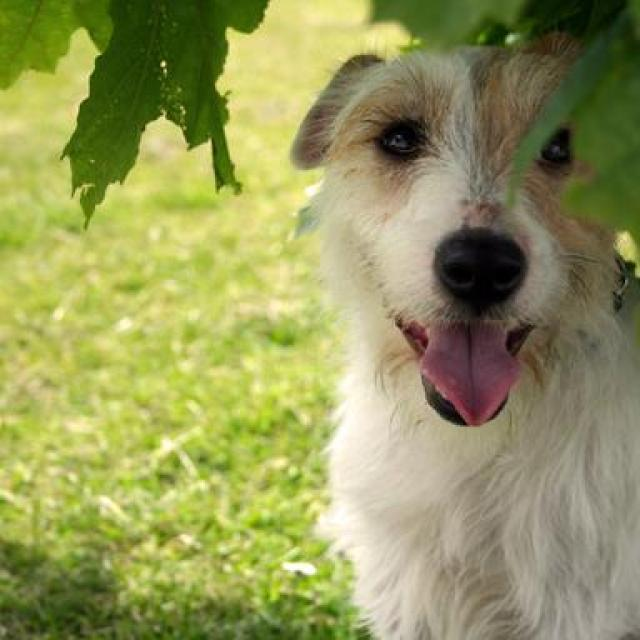adult_dog: (291, 31, 640, 640)
